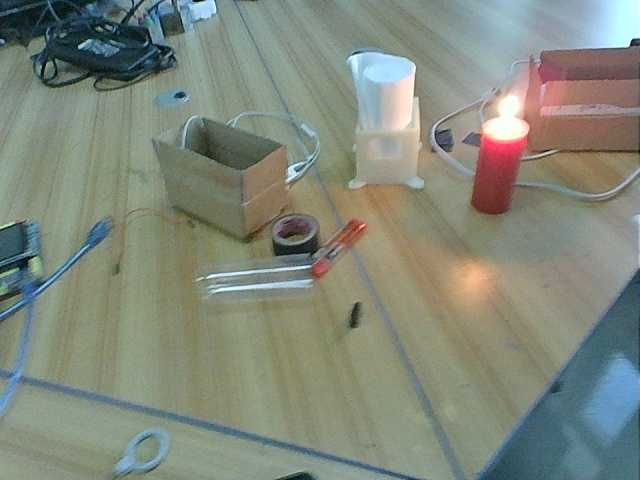candle: (478, 128, 527, 215)
fire: (475, 101, 529, 143)
